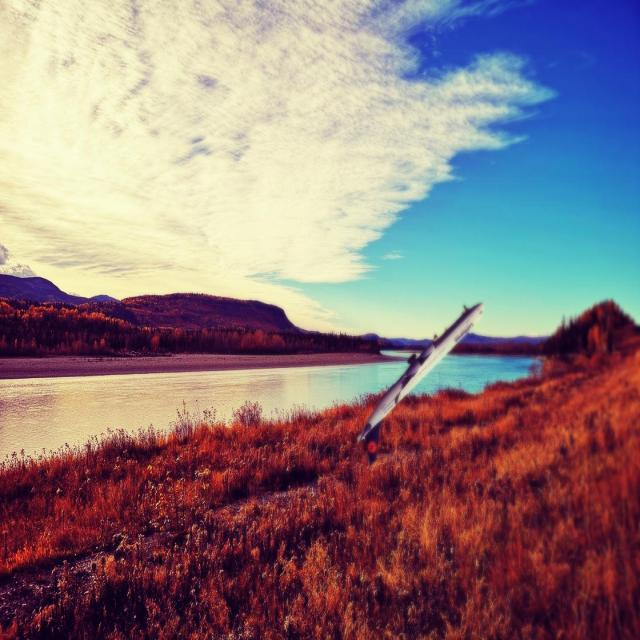airplane: (356, 301, 484, 464)
